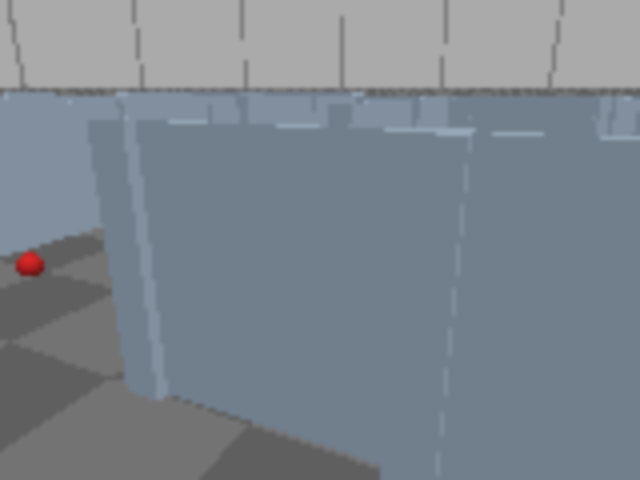puck: (8, 249, 51, 282)
